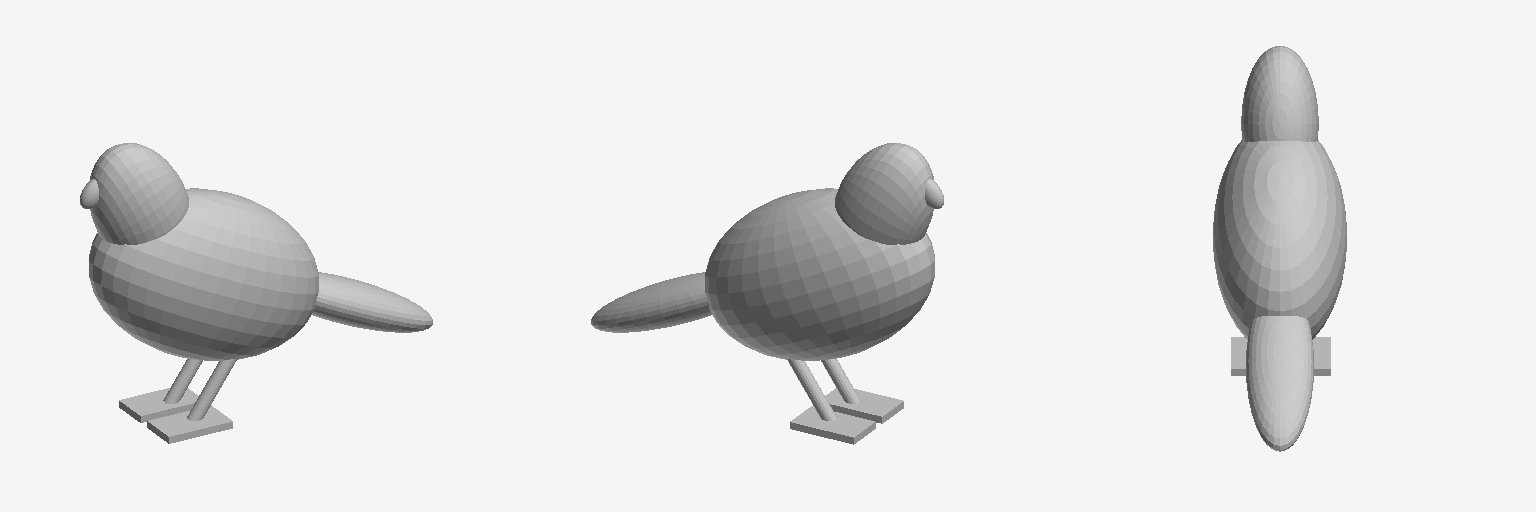
The model's file is pigeon.obj.
3 renders of one model, left to right at view 1: azimuth 30°, elevation 25°; view 2: azimuth 150°, elevation 25°; view 3: azimuth 270°, elevation 25°, orthographic.
Parts seen in each view (by area): view 1: Sphere001; view 2: Sphere001; view 3: Sphere001.
Part boxes in pixels (bbox=[...]): Sphere001: bbox=[80, 143, 432, 443]; Sphere001: bbox=[591, 143, 943, 444]; Sphere001: bbox=[1213, 46, 1346, 451].
Bounding box in the file's own units: 9.68 × 7.52 × 3.22.